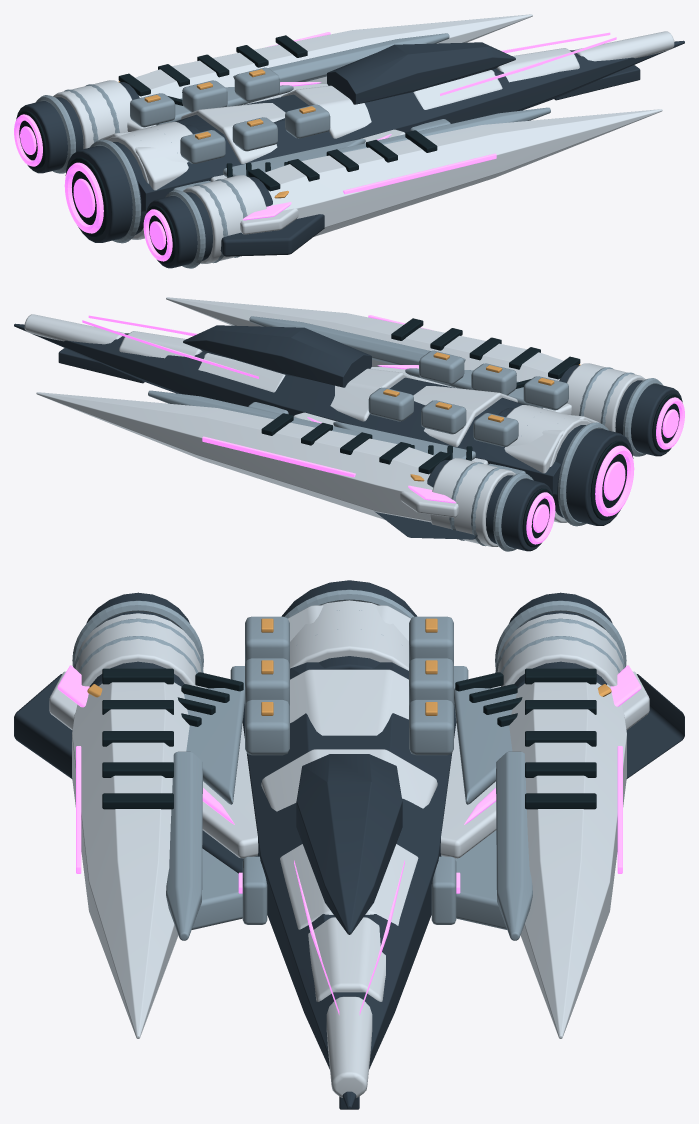
The model's file is ship-09.glb.
3 renders of one model, top to bottom at view 1: azimuth 30°, elevation 25°; view 2: azimuth 150°, elevation 25°; view 3: azimuth 270°, elevation 25°, orthographic. The views are drawn at different scales.
Visible parts, largest first — view 1: Ceramic titanium, Graphite frame, Machined silver, Ion violet, Carbon insets, Copper contacts; view 2: Ceramic titanium, Graphite frame, Machined silver, Ion violet, Carbon insets, Copper contacts; view 3: Ceramic titanium, Machined silver, Graphite frame, Carbon insets, Ion violet, Copper contacts.
Part boxes in pixels (box(x1,y1,x2,y2)): Ceramic titanium: box(53, 14, 674, 263); Graphite frame: box(16, 40, 684, 268); Machined silver: box(35, 33, 550, 268); Ion violet: box(14, 32, 616, 261); Carbon insets: box(17, 35, 437, 264); Copper contacts: box(118, 69, 315, 198); Ceramic titanium: box(24, 297, 645, 546); Graphite frame: box(14, 323, 682, 551); Machined silver: box(148, 316, 663, 551); Ion violet: box(82, 315, 684, 544); Carbon insets: box(261, 318, 681, 547); Copper contacts: box(383, 352, 580, 481); Ceramic titanium: box(49, 600, 649, 1097); Machined silver: box(72, 589, 626, 940); Graphite frame: box(14, 580, 684, 1109); Carbon insets: box(102, 668, 596, 809); Ion violet: box(57, 665, 641, 1014); Copper contacts: box(87, 618, 611, 715).
Size of the model in its own units: 6 by 1.14 by 3.55.
